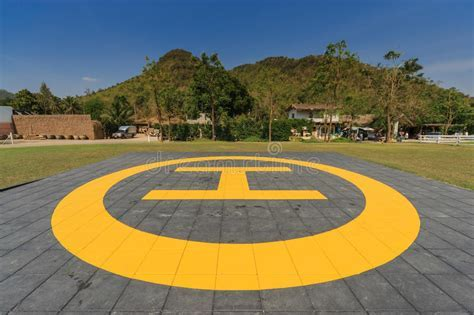H: (142, 166, 328, 199)
